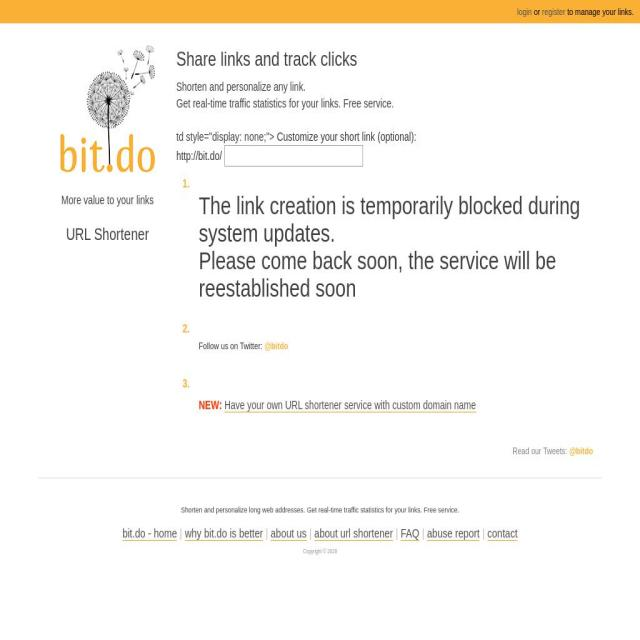button: (224, 398, 476, 412), (184, 526, 264, 541), (314, 526, 393, 541), (122, 526, 177, 541), (427, 526, 480, 541), (271, 526, 307, 541), (487, 526, 517, 541), (542, 6, 566, 18), (400, 526, 419, 541), (517, 6, 532, 18)
field: (224, 145, 364, 167)
heading: (199, 192, 580, 246), (199, 246, 556, 302), (177, 48, 582, 70), (45, 225, 170, 243)
iframe: (45, 268, 170, 435)
image: (58, 42, 158, 175)
link: (264, 341, 288, 351), (569, 446, 593, 456)
text: (43, 547, 597, 556), (176, 97, 394, 110), (181, 505, 460, 514), (276, 130, 416, 143), (176, 80, 306, 93), (176, 130, 277, 143), (62, 193, 154, 207), (565, 6, 634, 16), (177, 149, 224, 163), (199, 341, 264, 351), (512, 446, 570, 456), (199, 398, 222, 412), (182, 177, 192, 190), (182, 322, 190, 335), (182, 377, 190, 390), (532, 6, 542, 16), (265, 526, 268, 540), (309, 526, 312, 540), (395, 526, 398, 540), (422, 526, 425, 540), (482, 526, 485, 540), (180, 526, 182, 540)
